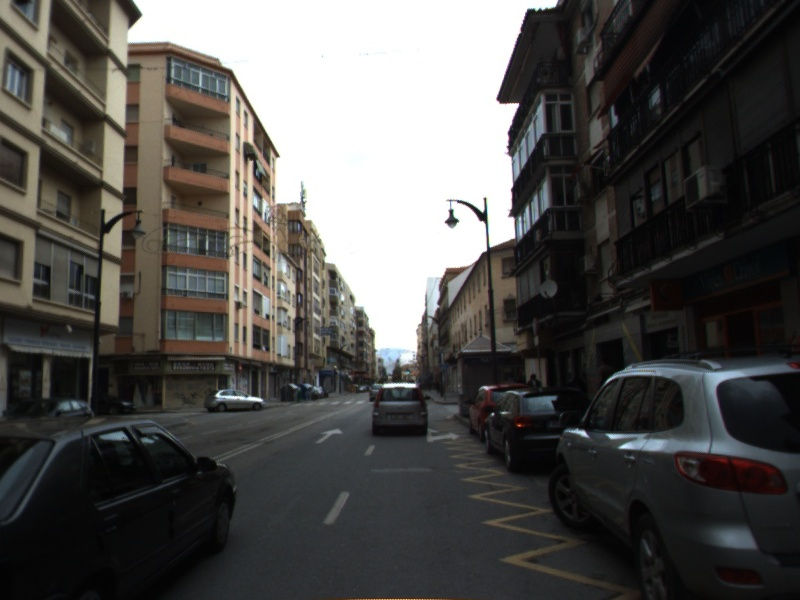STRAIGHT: (313, 426, 345, 445)
STRAIGHT_RIGHT: (424, 427, 463, 444)
